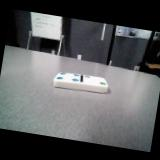domino: (53, 72, 108, 92)
